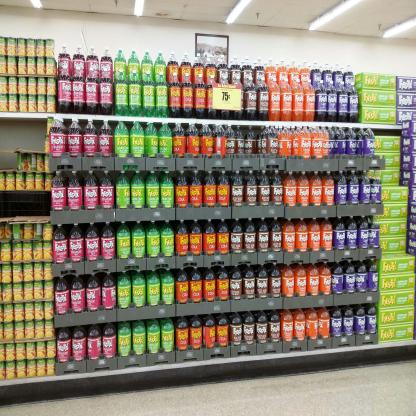Void: (3, 188, 48, 215), (6, 117, 40, 148), (1, 152, 13, 168)
